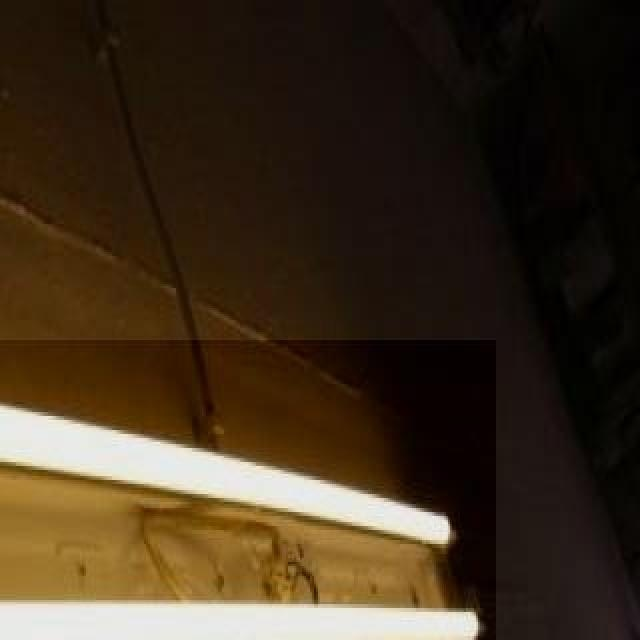fluorescent tube: (0, 344, 458, 544), (0, 576, 500, 640)
